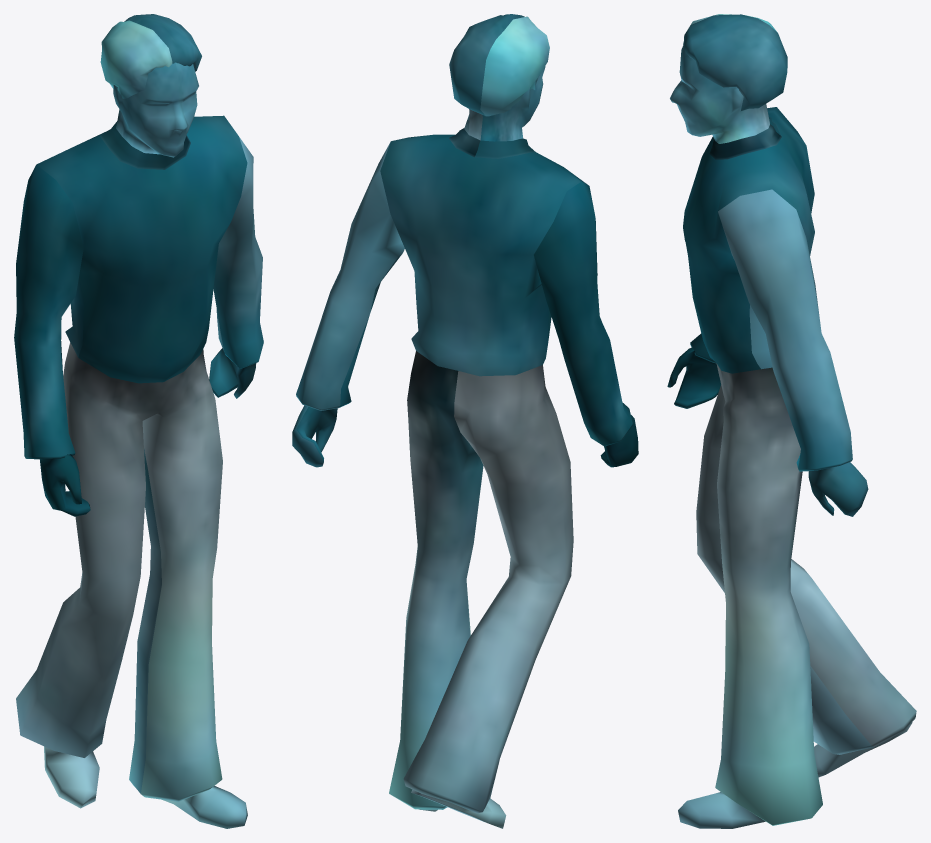
File: simpleMan06.obj
The picture shows the model from 3 angles, left to right: view 1: azimuth 30°, elevation 25°; view 2: azimuth 150°, elevation 25°; view 3: azimuth 270°, elevation 25°; orthographic projection. The views are drawn at different scales.
Parts seen in each view (by area): view 1: uomo; view 2: uomo; view 3: uomo.
Part boxes in pixels (bbox=[...]): uomo: bbox=[14, 14, 263, 828]; uomo: bbox=[292, 14, 638, 828]; uomo: bbox=[667, 14, 916, 828].
Size of the model in its own units: 1.83 by 4.97 by 1.44.
